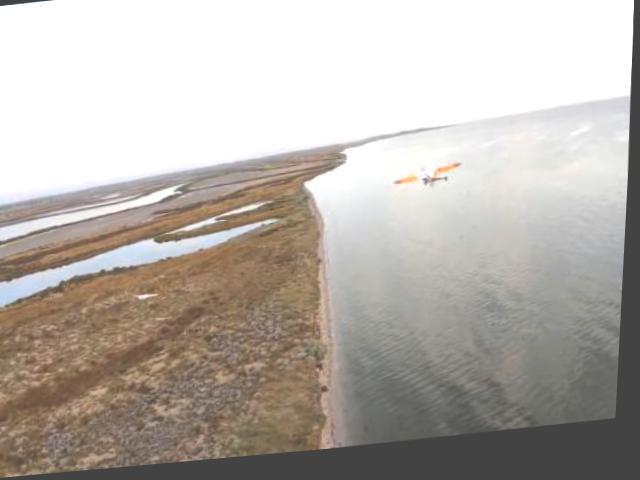uav: (394, 165, 470, 199)
